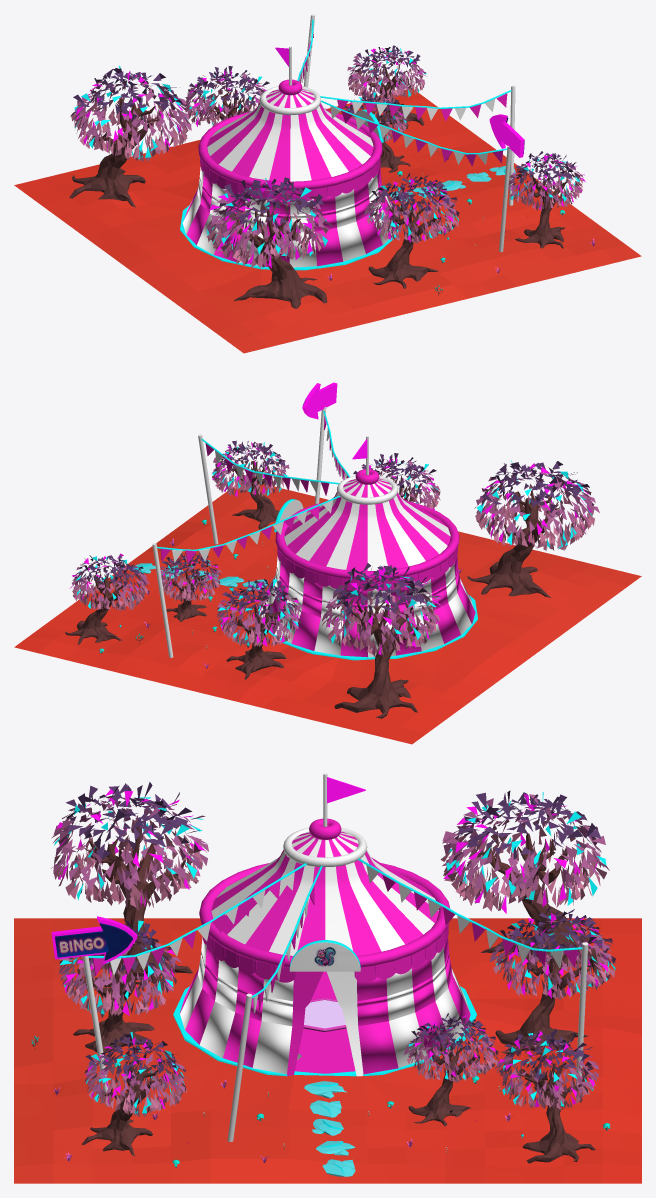
The model's file is bingoScene.glb.
3 renders of one model, top to bottom at view 1: azimuth 30°, elevation 25°; view 2: azimuth 150°, elevation 25°; view 3: azimuth 270°, elevation 25°, orthographic. The views are drawn at different scales.
Parts seen in each view (by area): view 1: outside, cylinder.004, Tree_Leafs_01.016, Tree_Leafs_01.019, cylinder, cylinder.001, Tree_Leafs_01.013, Tree_Leafs_01.002, Tree_Leafs_01, Tree_Leafs_01.022, circularRing, Tree_Leafs_01.001 (+8 smaller); view 2: outside, cylinder.004, Tree_Leafs_01.016, Tree_Leafs_01.019, cylinder.001, cylinder, Tree_Leafs_01.022, Tree_Leafs_01, Tree_Leafs_01.002, Tree_Leafs_01.001, circularRing, Tree_Leafs_01.013 (+6 smaller); view 3: outside, cylinder.004, Tree_Leafs_01.019, Tree_Leafs_01.016, cylinder, cylinder.001, Tree_Leafs_01.022, Tree_Leafs_01.002, Tree_Leafs_01, Tree_Leafs_01.013, Tree_Leafs_01.001, circularRing (+21 smaller).
Boxes of the visible parts, bbox=[...] form: outside: bbox=[14, 89, 641, 353]; cylinder.004: bbox=[182, 117, 397, 267]; Tree_Leafs_01.016: bbox=[206, 177, 332, 308]; Tree_Leafs_01.019: bbox=[69, 68, 191, 207]; cylinder: bbox=[207, 103, 373, 181]; cylinder.001: bbox=[207, 102, 373, 181]; Tree_Leafs_01.013: bbox=[364, 173, 459, 288]; Tree_Leafs_01.002: bbox=[508, 151, 584, 248]; Tree_Leafs_01: bbox=[347, 45, 426, 129]; Tree_Leafs_01.022: bbox=[185, 66, 269, 126]; circularRing: bbox=[198, 112, 382, 190]; Tree_Leafs_01.001: bbox=[344, 93, 410, 172]; outside: bbox=[14, 481, 641, 744]; cylinder.004: bbox=[259, 556, 475, 657]; Tree_Leafs_01.016: bbox=[467, 461, 599, 597]; Tree_Leafs_01.019: bbox=[321, 563, 441, 718]; cylinder.001: bbox=[284, 492, 450, 570]; cylinder: bbox=[284, 492, 450, 570]; Tree_Leafs_01.022: bbox=[217, 579, 303, 679]; Tree_Leafs_01: bbox=[65, 554, 149, 644]; Tree_Leafs_01.002: bbox=[211, 440, 289, 529]; Tree_Leafs_01.001: bbox=[160, 552, 221, 621]; circularRing: bbox=[275, 501, 459, 579]; Tree_Leafs_01.013: bbox=[353, 453, 440, 509]; outside: bbox=[14, 918, 641, 1183]; cylinder.004: bbox=[180, 937, 470, 1074]; Tree_Leafs_01.019: bbox=[440, 790, 609, 976]; Tree_Leafs_01.016: bbox=[51, 782, 208, 991]; cylinder: bbox=[211, 849, 438, 955]; cylinder.001: bbox=[211, 850, 438, 955]; Tree_Leafs_01.022: bbox=[489, 906, 616, 1056]; Tree_Leafs_01.002: bbox=[81, 1034, 190, 1156]; Tree_Leafs_01: bbox=[494, 1028, 599, 1163]; Tree_Leafs_01.013: bbox=[58, 920, 181, 1061]; Tree_Leafs_01.001: bbox=[404, 1013, 498, 1126]; circularRing: bbox=[199, 863, 449, 967].
Size of what is drawn, in the model's own units: 64 by 28.37 by 64.
15 materials, 15 textured.
